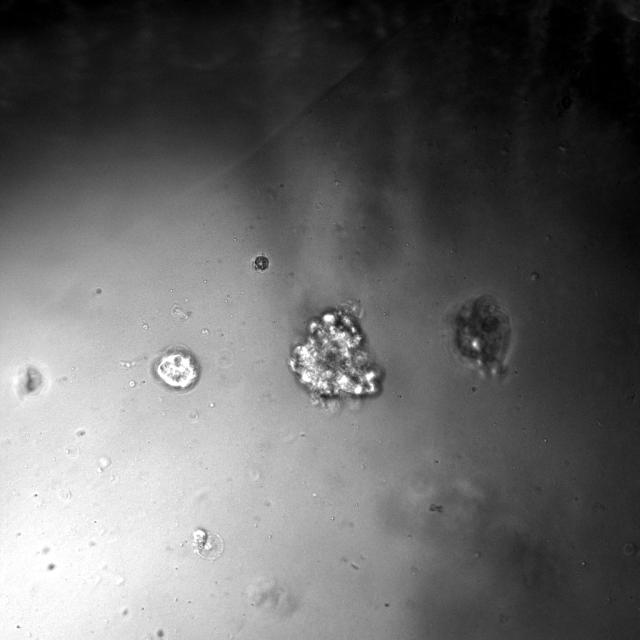organoid: (289, 304, 381, 401), (446, 294, 512, 379), (151, 346, 199, 392), (12, 363, 48, 400), (192, 527, 223, 560), (252, 252, 271, 272)
